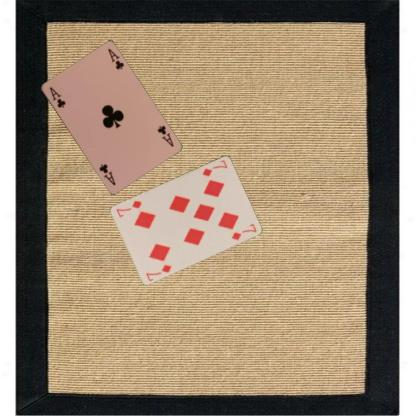7d: (199, 158, 229, 178), (144, 262, 173, 282)
Ac: (154, 122, 174, 148), (47, 84, 66, 110)
